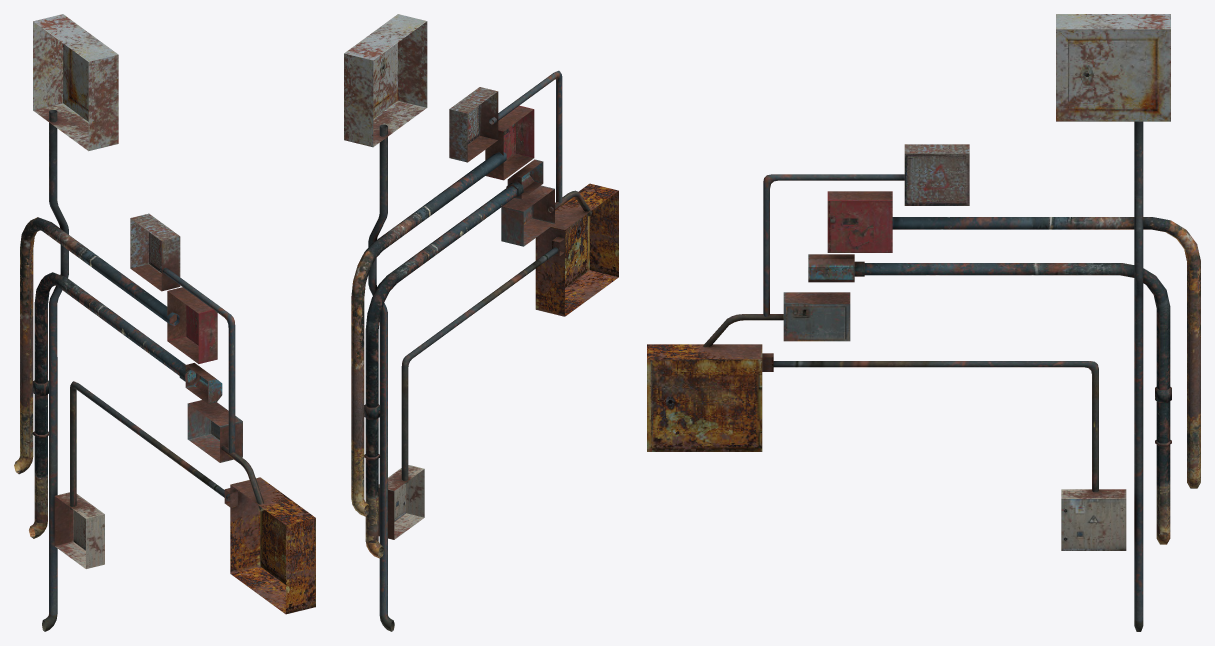
File: FuseBoxes_01.FBX
The picture shows the model from 3 angles, left to right: view 1: azimuth 30°, elevation 25°; view 2: azimuth 150°, elevation 25°; view 3: azimuth 270°, elevation 25°; orthographic projection. The views are drawn at different scales.
Parts seen in each view (by area): view 1: FuseBoxes_01; view 2: FuseBoxes_01; view 3: FuseBoxes_01.
Boxes of the visible parts, left/top/right/bottom form: FuseBoxes_01: left=14, top=14, right=315, bottom=631; FuseBoxes_01: left=344, top=14, right=618, bottom=631; FuseBoxes_01: left=647, top=14, right=1200, bottom=631.
Size of the model in its own units: 17.96 by 296 by 240.
1 material, 1 textured.
